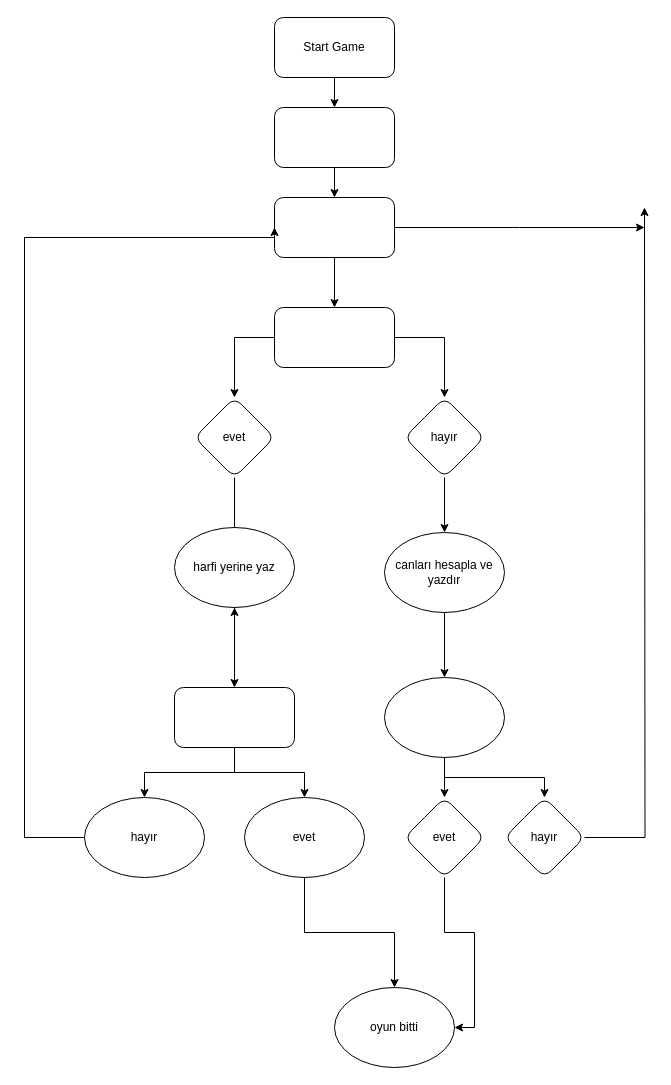
Image size: 671x1085. Some labels were removed from this diagram. Here are the shapes that lost their labels. From the top down, the box of each, then its label:
(274, 106, 394, 168): Random bir kelime üret
(274, 196, 394, 258): Bir harf sor
(274, 306, 394, 368): harf kelimede var mı ?
(174, 686, 294, 748): kelime tamamlandı mı
(384, 676, 504, 758): canları bitti mi?
